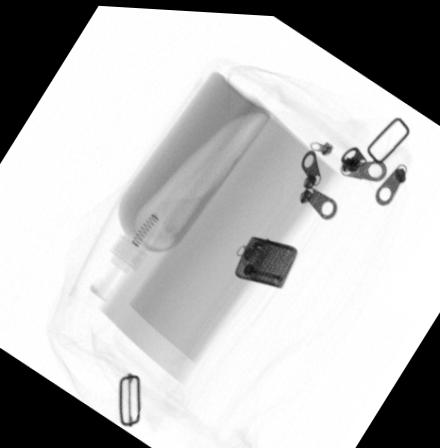Lighter: (234, 232, 298, 284)
